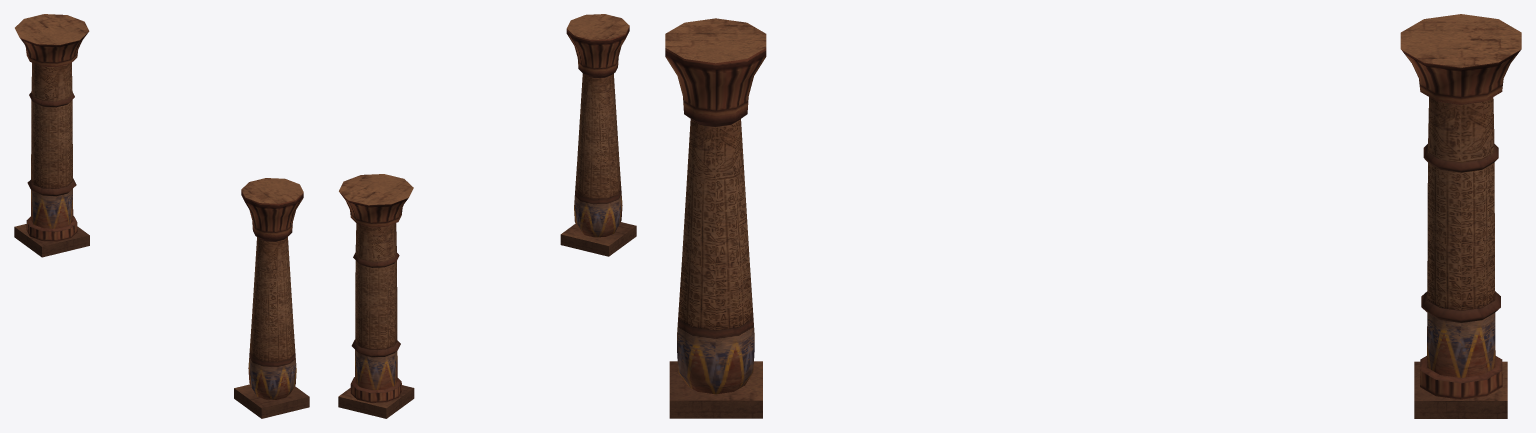
The model's file is Pillar_02.fbx.
3 views of the same model, side by side, from view 1: azimuth 30°, elevation 25°; view 2: azimuth 150°, elevation 25°; view 3: azimuth 270°, elevation 25° (orthographic). The views are drawn at different scales.
Visible parts, largest first — view 1: Pillar_02, Pillar_01; view 2: Pillar_02, Pillar_01; view 3: Pillar_02, Pillar_01.
Boxes of the visible parts, x1,y1,x2,y2 form: Pillar_02: (14, 14, 89, 257); Pillar_01: (234, 178, 309, 418); Pillar_02: (338, 174, 414, 418); Pillar_01: (560, 14, 636, 256); Pillar_02: (1400, 14, 1521, 418); Pillar_01: (665, 18, 766, 418).
Size of the model in its own units: 46.01 by 143 by 310.
Materials: 1 (1 with a texture image).
